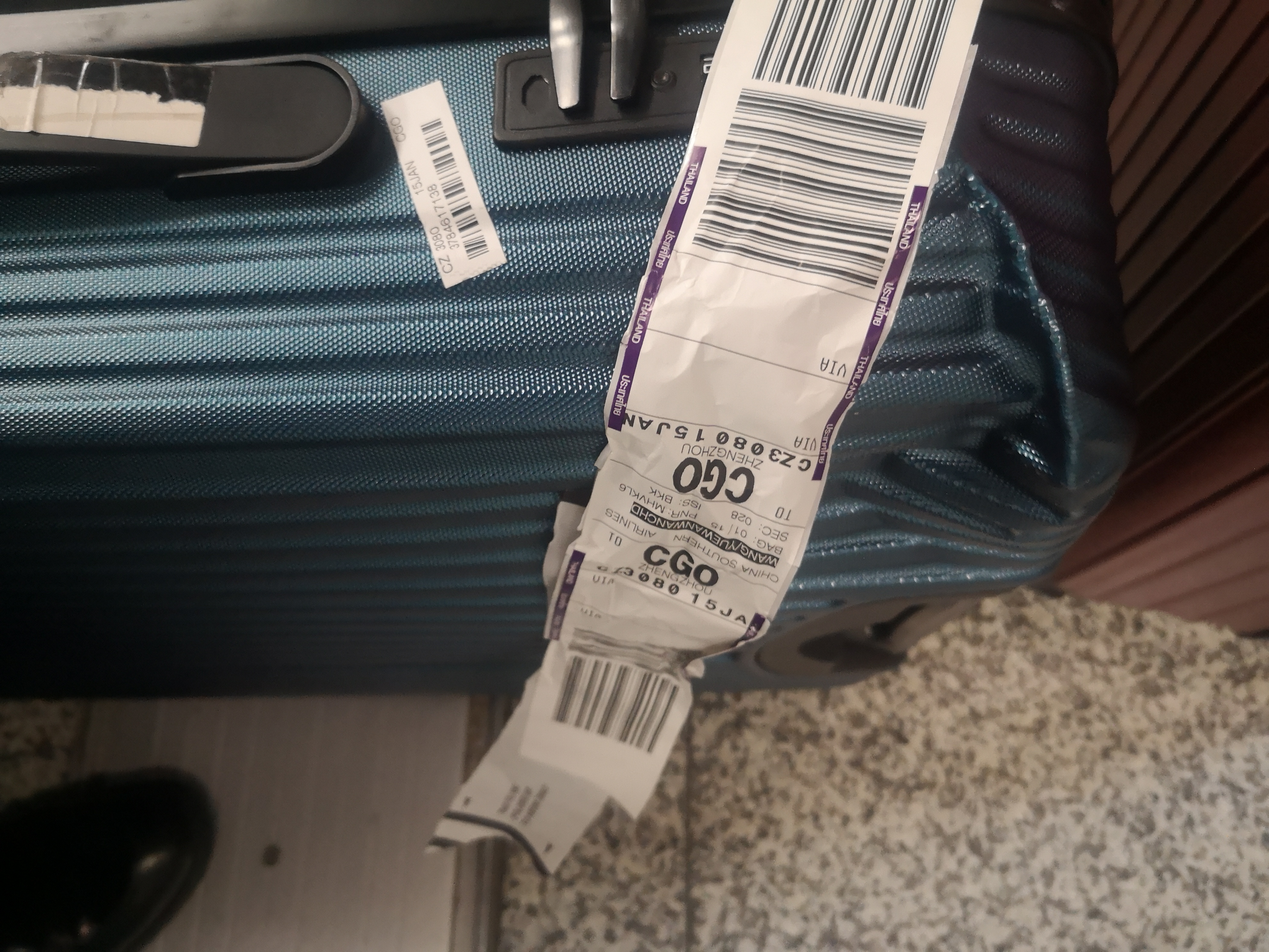rupture: (838, 403, 1077, 543)
